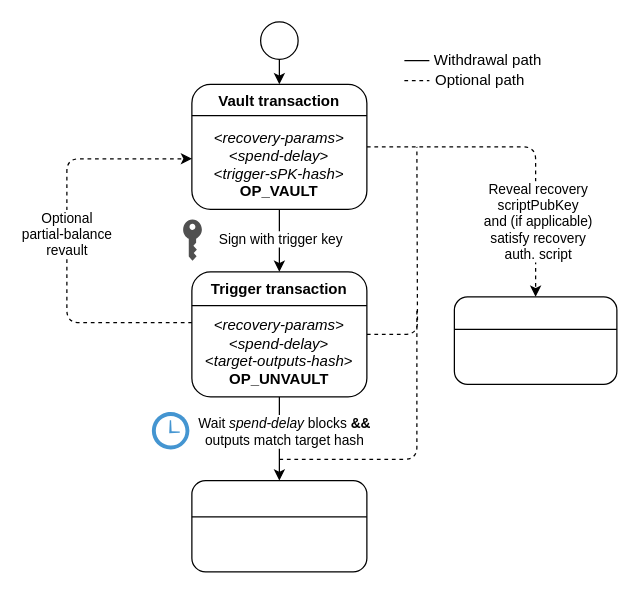
Some shapes in this 640 by 594 pixel diagram are drawn without their labels. Each missing label, with the centre of its shape:
"Recovery transaction [outputs controlled by recovery keys]" goes at pixel 535 340.
"Withdrawal transaction [dynamically chosen target outputs]" goes at pixel 279 525.
